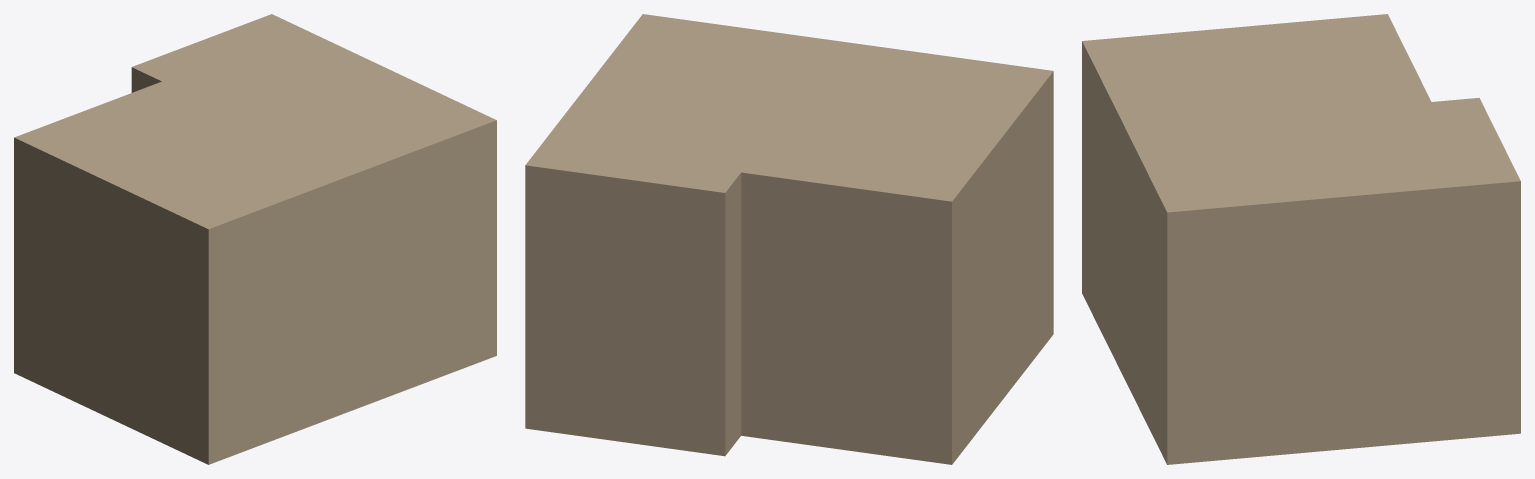
Rendered from bld_108162135.dae.
3 views of the same model, side by side, from view 1: azimuth 30°, elevation 25°; view 2: azimuth 150°, elevation 25°; view 3: azimuth 270°, elevation 25° (orthographic). The views are drawn at different scales.
Parts seen in each view (by area): view 1: bld_108162135; view 2: bld_108162135; view 3: bld_108162135.
Boxes of the visible parts, <box> form: bld_108162135: <box>14,14,496,464</box>; bld_108162135: <box>525,14,1053,464</box>; bld_108162135: <box>1082,14,1520,464</box>.
Size of the model in its own units: 13.49 by 12.6 by 8.
